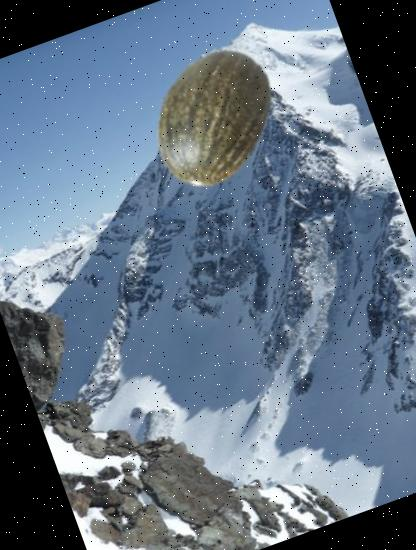Melon: (125, 28, 308, 210)
